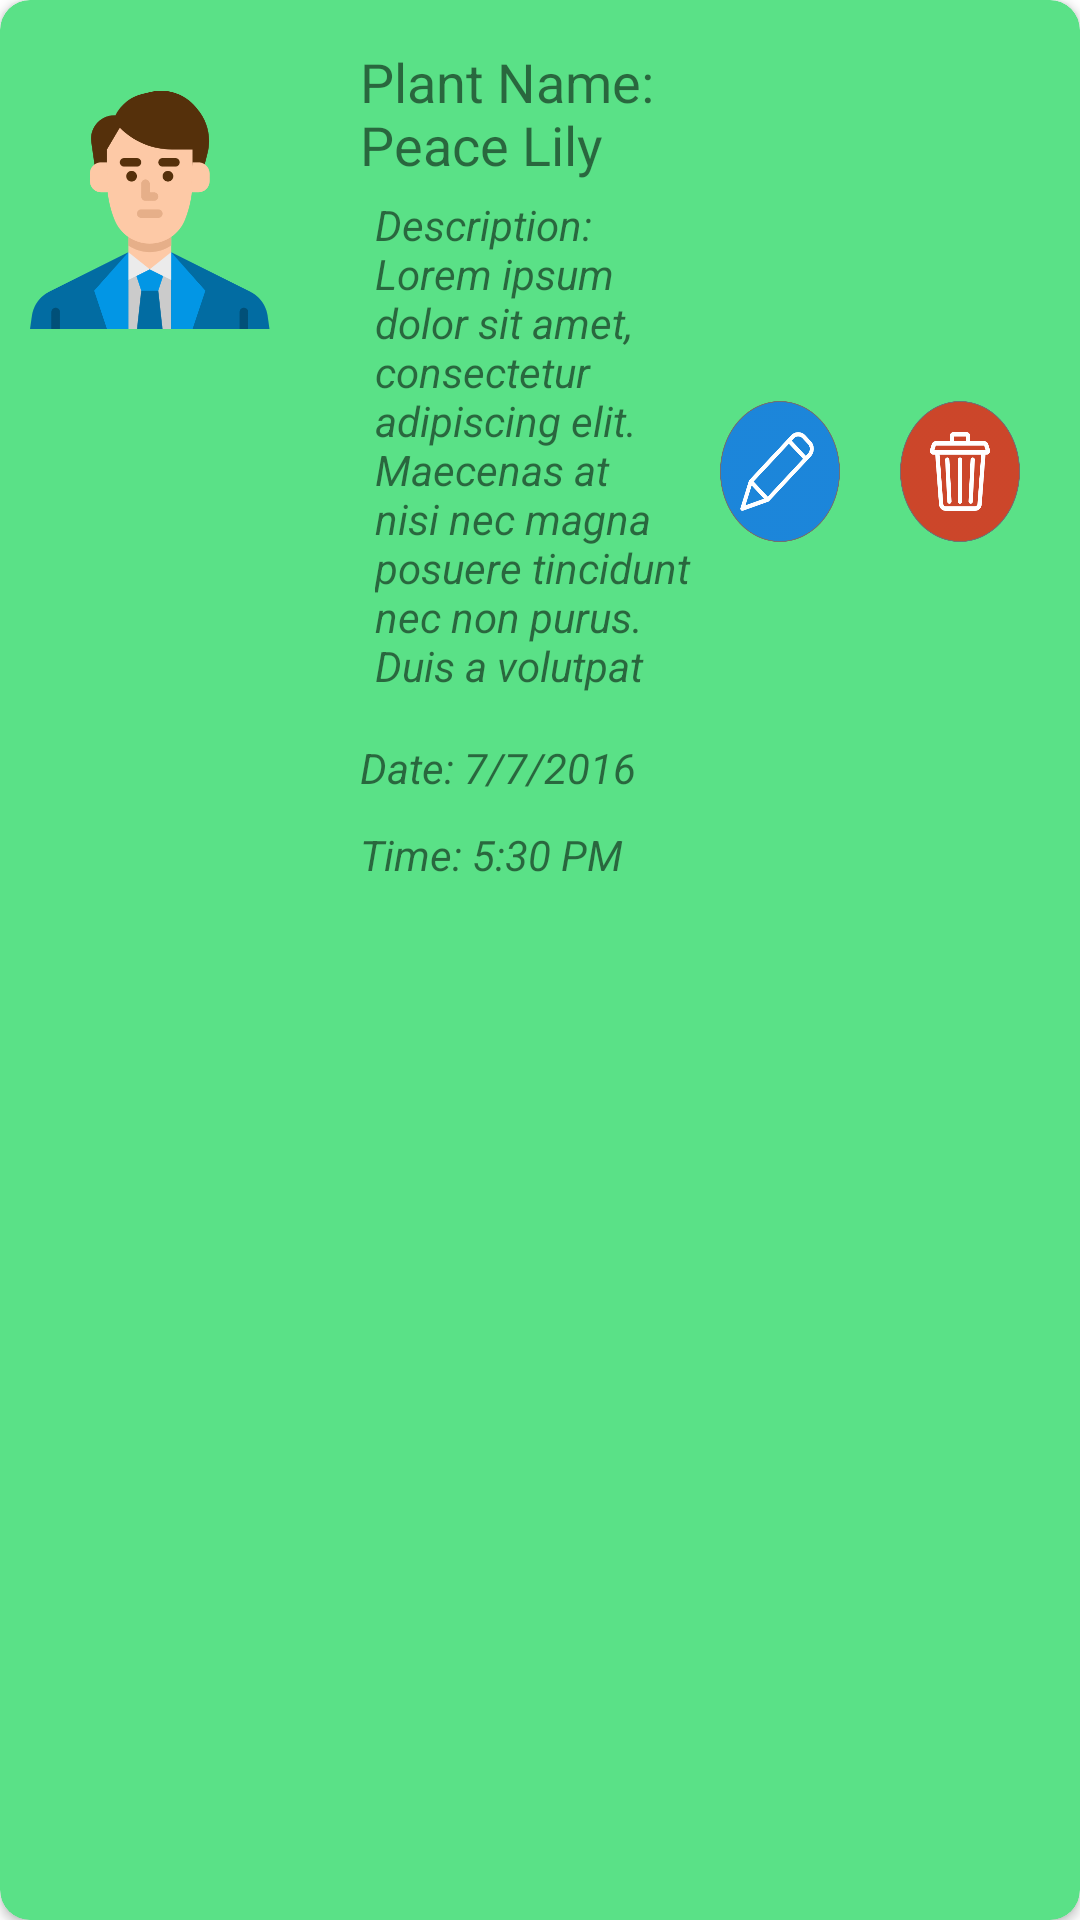

Screen size 1080x1920. Icon name, then its box in pixels as {"x1": x1, "y1": y1, "x2": x2, "y2": y2}:
buttondelete: {"x1": 900, "y1": 401, "x2": 1020, "y2": 542}
buttonedit: {"x1": 720, "y1": 401, "x2": 840, "y2": 542}
man: {"x1": 30, "y1": 91, "x2": 270, "y2": 329}
